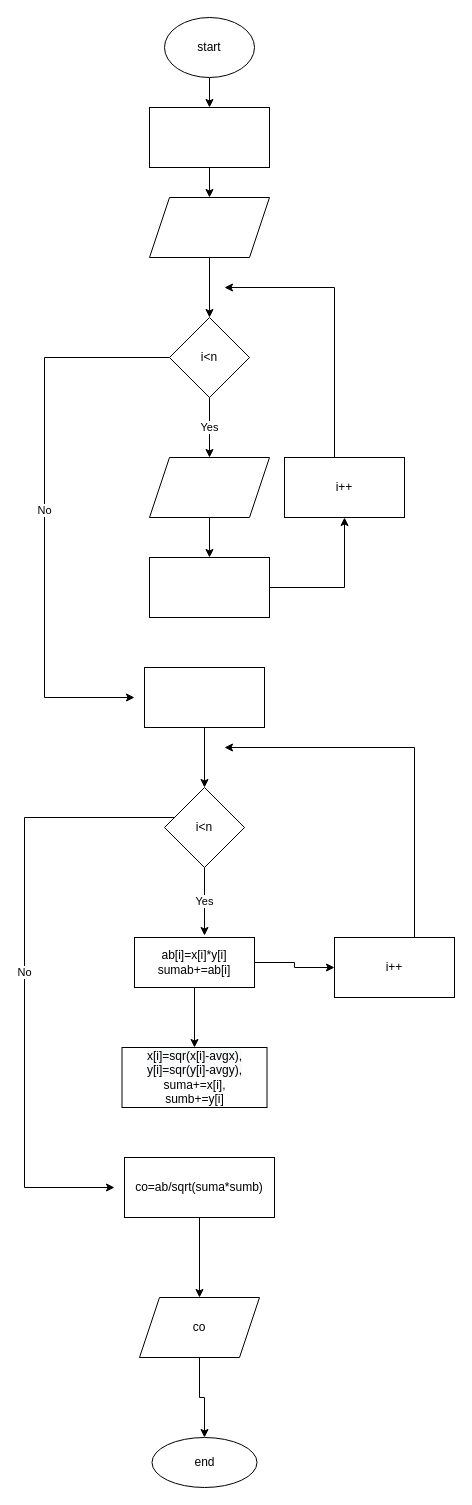
Some shapes in this 472 by 1505 pixel diagram are drawn without their labels. The shapes that lost their labels are listed below. From the top down, each one's centre as x and y in pixels, then its label:
At point (209, 137): "declare :co,n,x[],y[],ab[] avgx,avgy,a,b, subab,suma,sumb".
At point (209, 227): "read n".
At point (209, 487): "x[i] y[i]".
At point (209, 587): "avgx+=x[i], avgy+=y[i]".
At point (204, 697): "avgx= avgx/n, avgy=avgy/n".
